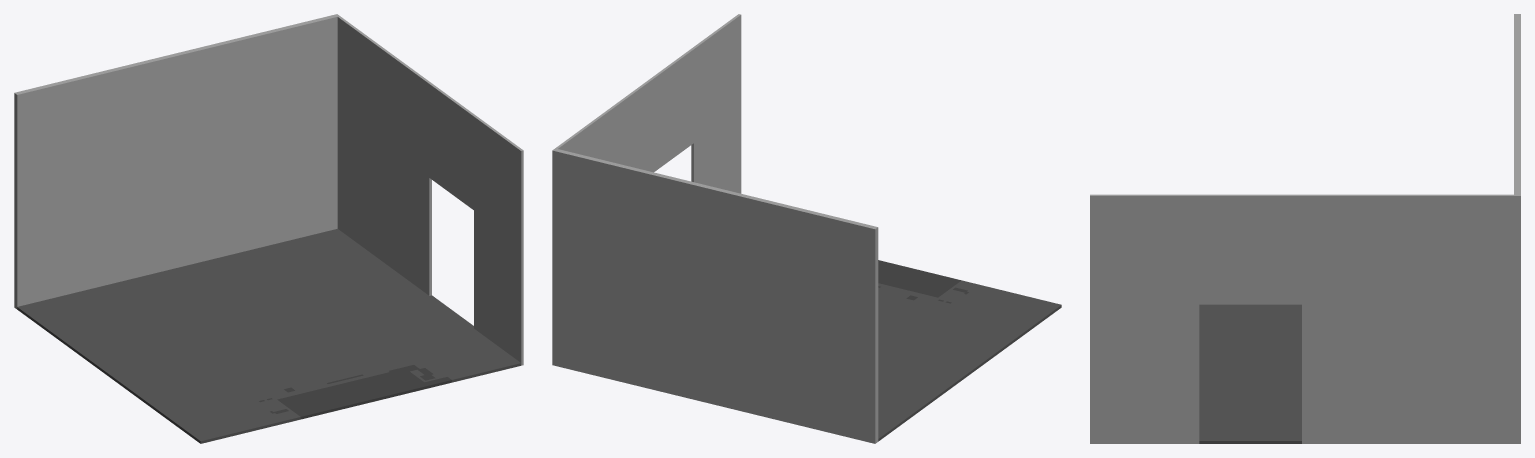
Rendered from 4x2 third (1)-2.obj.
The picture shows the model from 3 angles, left to right: view 1: azimuth 30°, elevation 25°; view 2: azimuth 150°, elevation 25°; view 3: azimuth 270°, elevation 25°; orthographic projection. The views are drawn at different scales.
Visible parts, largest first — view 1: 4x2 third (1)-2; view 2: 4x2 third (1)-2; view 3: 4x2 third (1)-2.
Part boxes in pixels (x1,y1,x2,y2): 4x2 third (1)-2: (14, 14, 523, 443); 4x2 third (1)-2: (552, 14, 1061, 443); 4x2 third (1)-2: (1090, 14, 1520, 443).
Size of the model in its own units: 126 by 80 by 126.
1 material, 1 textured.
